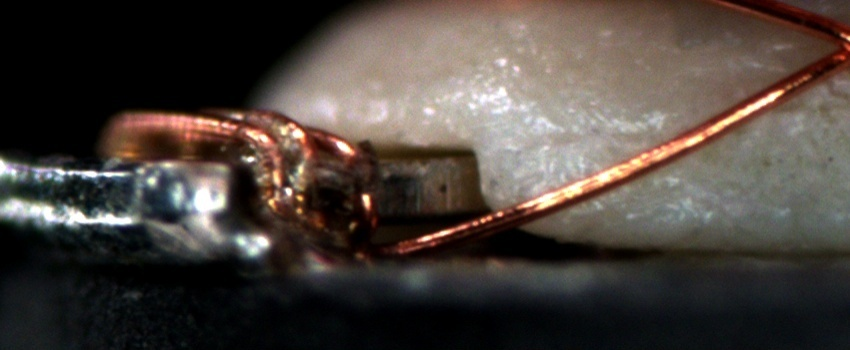CL: (805, 13, 849, 80)
DL: (534, 107, 664, 170)
TE: (96, 92, 387, 253)
